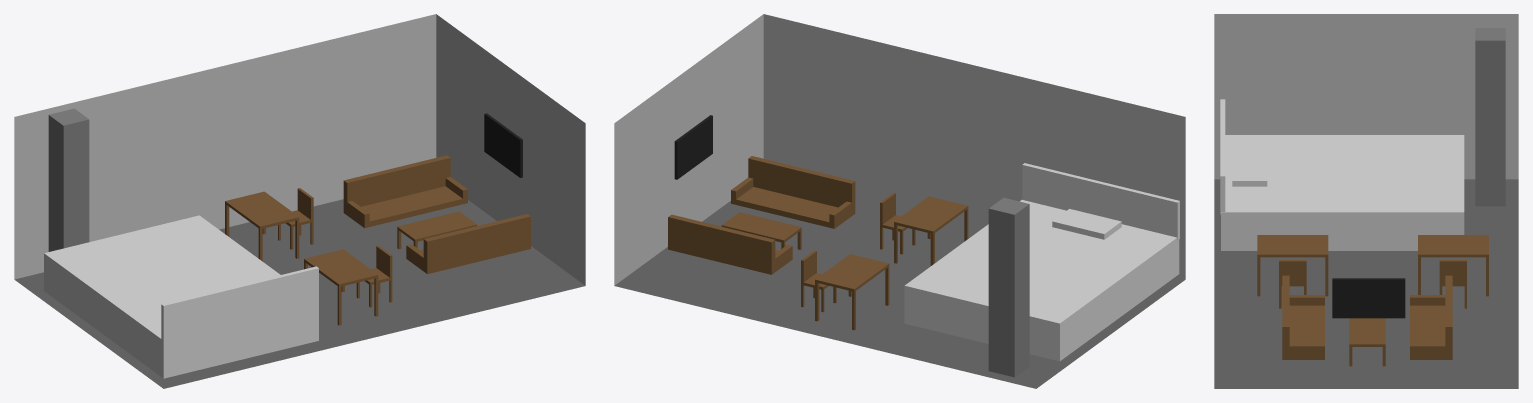
Rendered from fullyfurnishedroom.glb.
3 renders of one model, left to right at view 1: azimuth 30°, elevation 25°; view 2: azimuth 150°, elevation 25°; view 3: azimuth 270°, elevation 25°, orthographic.
Parts seen in each view (by area): view 1: walls, floor, Bed, Sofa, BedHead, TableChair, pillar_zone1, led_tv; view 2: walls, floor, Bed, Sofa, pillar_zone1, BedHead, TableChair, led_tv, Pillow; view 3: walls, floor, Bed, Sofa, pillar_zone1, TableChair, led_tv, Pillow, BedHead.
Part boxes in pixels (x1,y1,x2,y2): walls: (14, 14, 585, 285); floor: (14, 199, 585, 388); Bed: (44, 215, 318, 378); Sofa: (343, 155, 530, 273); BedHead: (161, 266, 318, 343); TableChair: (225, 188, 392, 325); pillar_zone1: (48, 108, 89, 251); led_tv: (484, 113, 522, 177); walls: (614, 14, 1185, 285); floor: (614, 199, 1185, 388); Bed: (904, 200, 1179, 361); Sofa: (668, 156, 855, 274); pillar_zone1: (988, 197, 1029, 377); BedHead: (1022, 163, 1179, 240); TableChair: (801, 192, 968, 330); led_tv: (674, 115, 712, 179); Pillow: (1052, 209, 1121, 239); walls: (1214, 14, 1518, 179); floor: (1214, 179, 1518, 388); Bed: (1221, 135, 1464, 250); Sofa: (1282, 275, 1452, 366); pillar_zone1: (1475, 28, 1505, 206); TableChair: (1257, 235, 1488, 308); led_tv: (1332, 278, 1405, 318); Pillow: (1232, 155, 1267, 186); BedHead: (1220, 99, 1225, 214).
Size of the model in its own units: 8.15 by 3 by 5.
